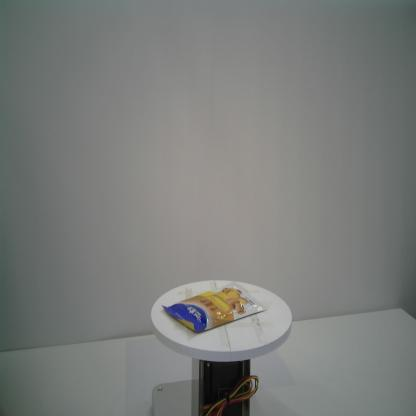Seasoner: (161, 280, 268, 333)
